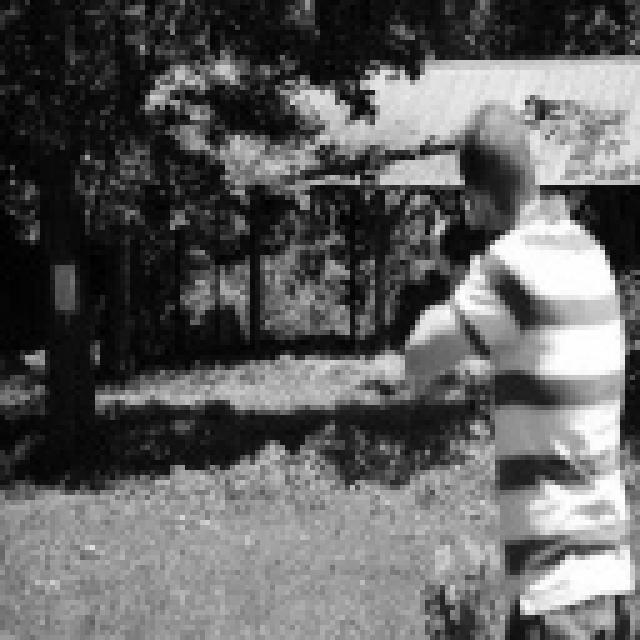Rifle: (406, 188, 519, 308)
